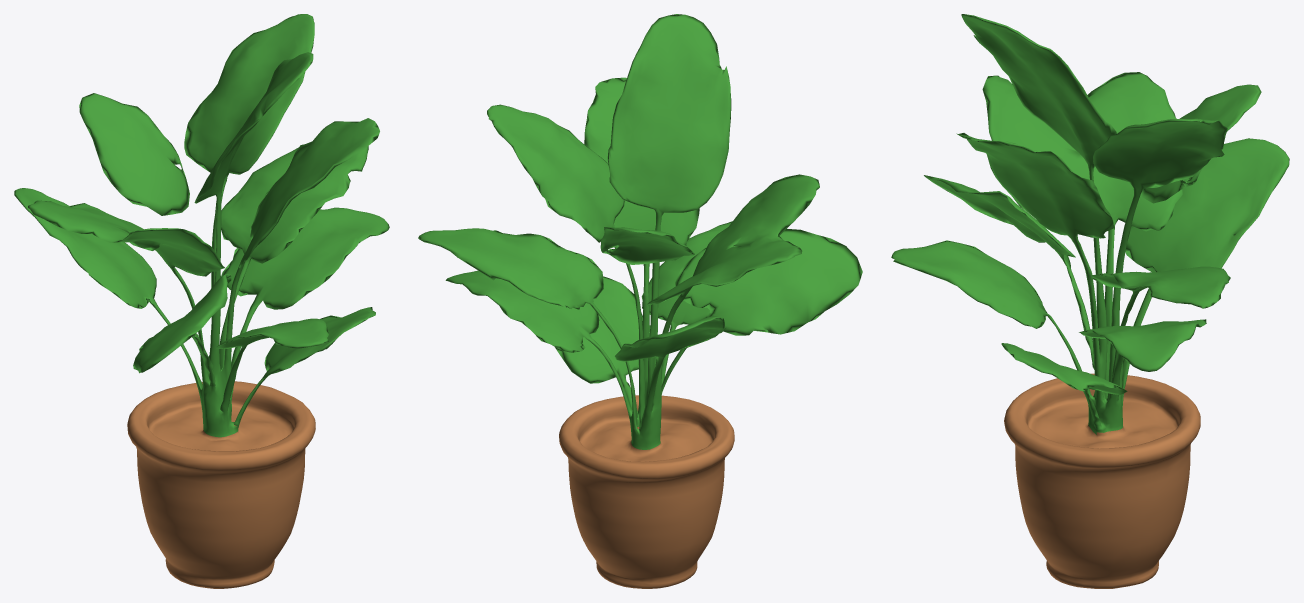
File: plante_1.glb
The picture shows the model from 3 angles, left to right: view 1: azimuth 30°, elevation 25°; view 2: azimuth 150°, elevation 25°; view 3: azimuth 270°, elevation 25°; orthographic projection. The views are drawn at different scales.
Parts seen in each view (by area): view 1: Mesh1; view 2: Mesh1; view 3: Mesh1.
Boxes of the visible parts, <box> form: Mesh1: <box>14,14,389,588</box>; Mesh1: <box>418,14,862,588</box>; Mesh1: <box>891,14,1289,588</box>.
Bounding box in the file's own units: 1.44 × 2 × 1.27.
